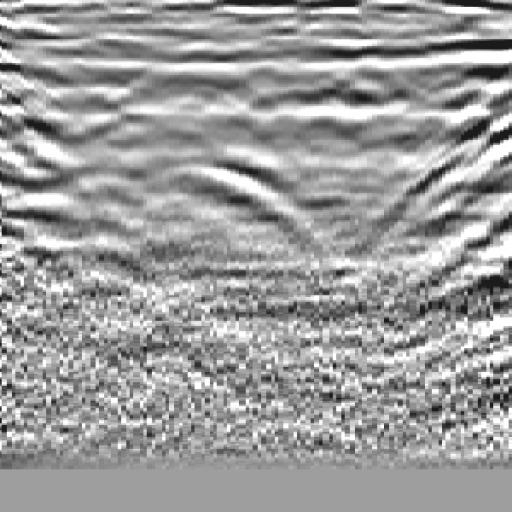metalic: (147, 42, 314, 271)
nonmetalic: (387, 50, 512, 253)
